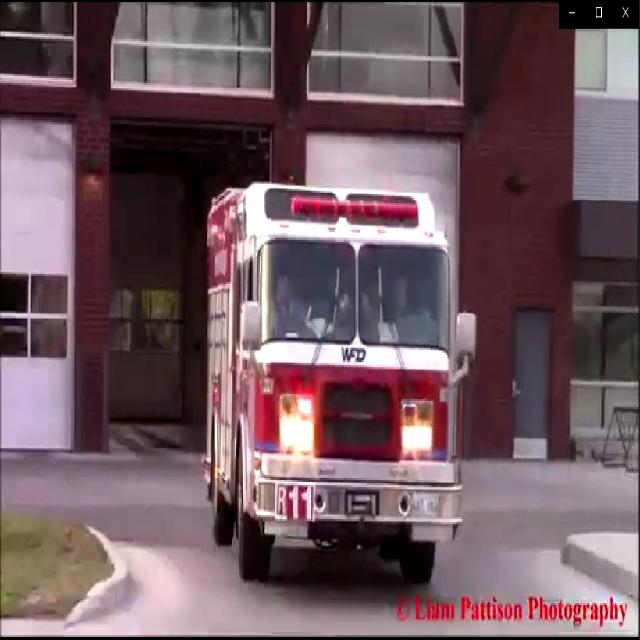emergency: (204, 178, 481, 594)
